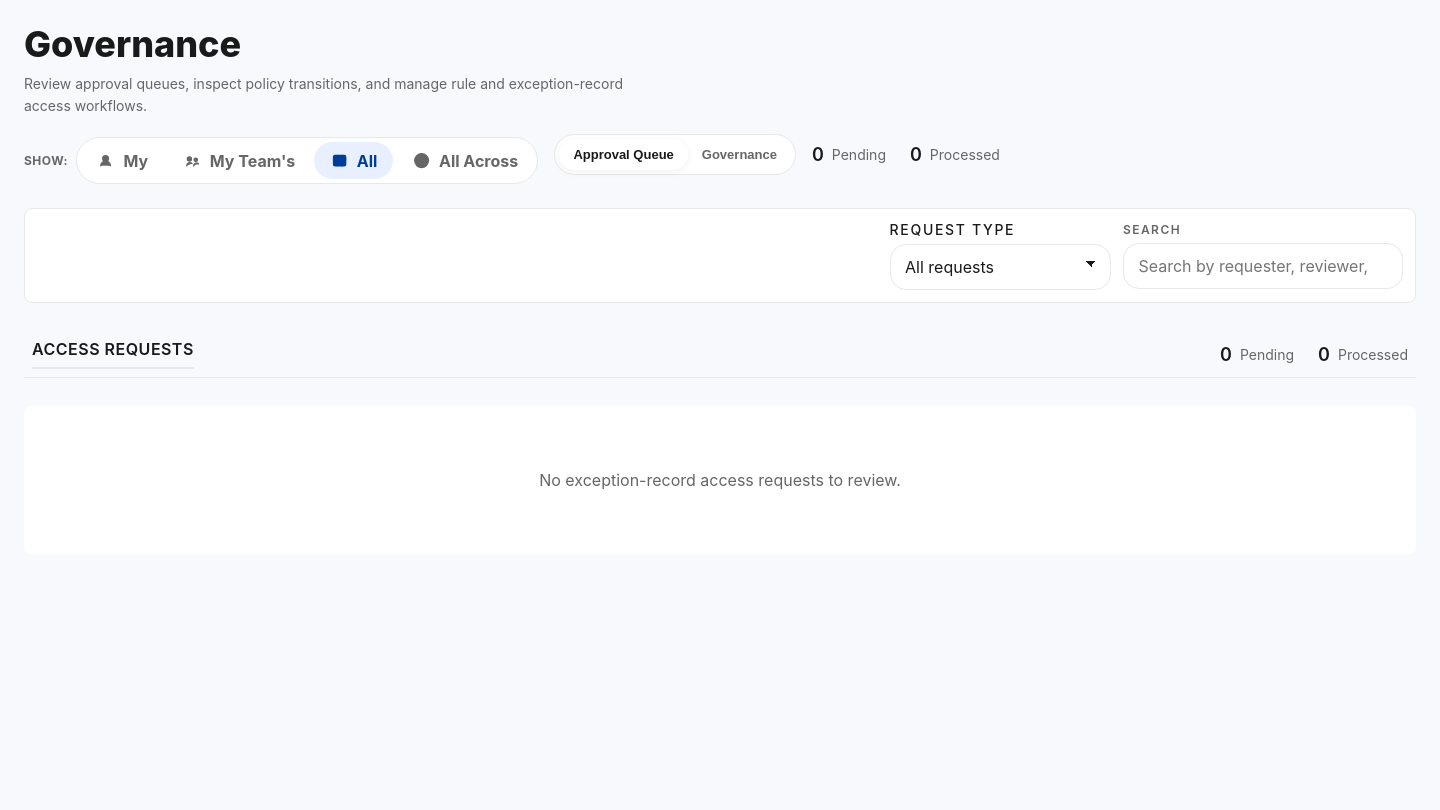
Test: Approvals requester canonical contract › loads governance inboxes from the backend contract and renders the queue summaries
Click the tab "Governance": coordinates (739, 155) [688,139,791,170]
(page scrolled)
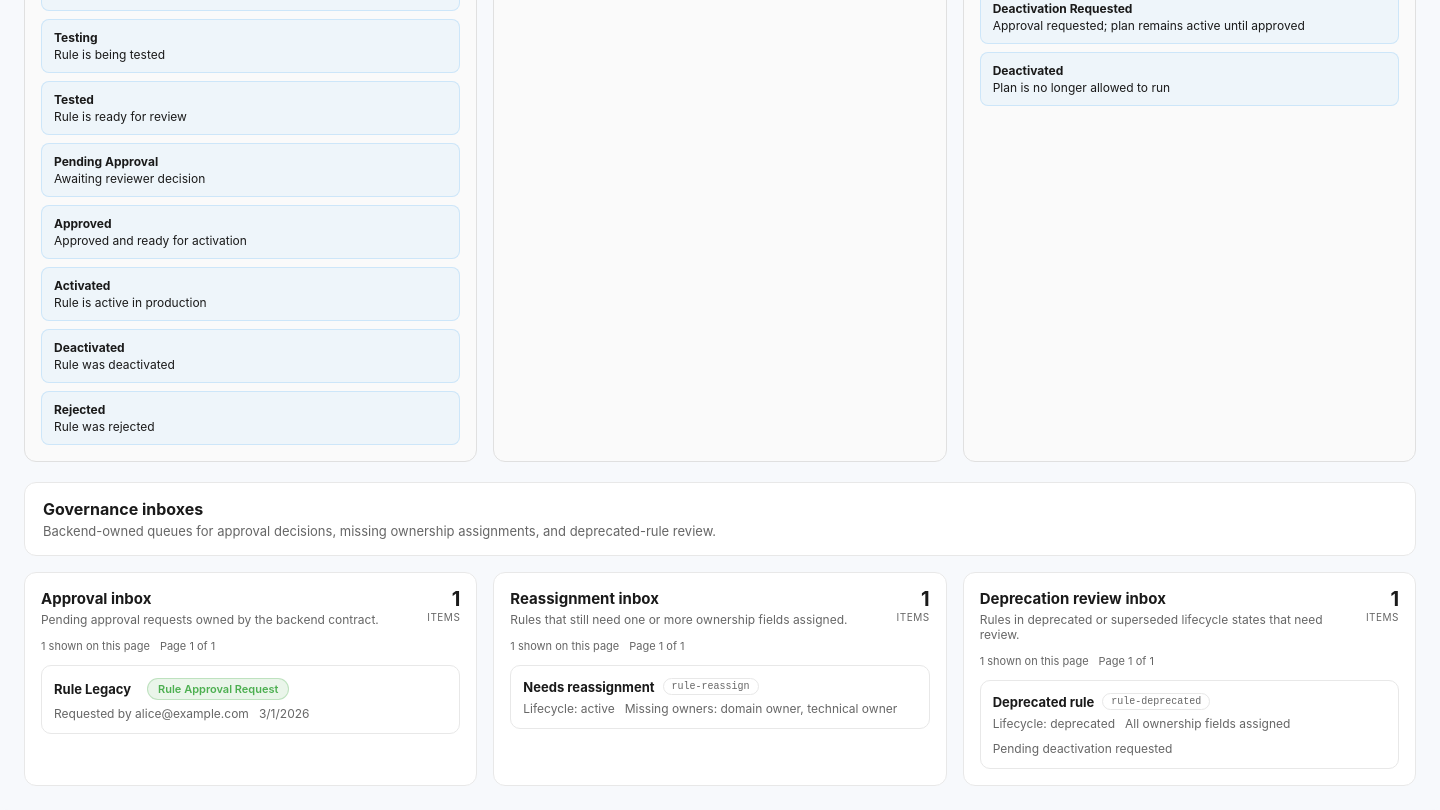
Now the heading "Governance inboxes" is shown, box [43,499,203,519]
Now the heading "Approval inbox" is shown, box [41,589,151,608]
Now the heading "Reassignment inbox" is shown, box [510,589,659,608]
